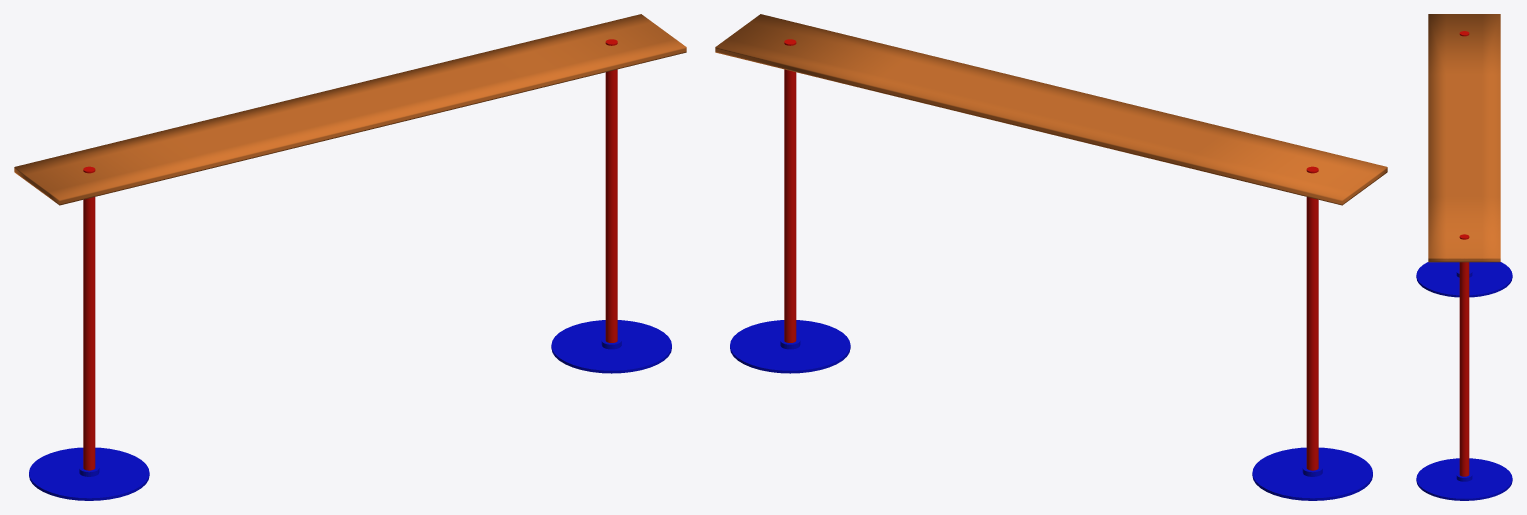
File: path.fbx
The picture shows the model from 3 angles, left to right: view 1: azimuth 30°, elevation 25°; view 2: azimuth 150°, elevation 25°; view 3: azimuth 270°, elevation 25°; orthographic projection. The views are drawn at different scales.
Parts seen in each view (by area): view 1: Cylinder.001; view 2: Cylinder.001; view 3: Cylinder.001.
Part boxes in pixels (x1,y1,x2,y2): Cylinder.001: [14, 14, 686, 500]; Cylinder.001: [715, 14, 1387, 500]; Cylinder.001: [1416, 14, 1512, 500].
Bounding box in the file's own units: 120 × 56.01 × 20.
